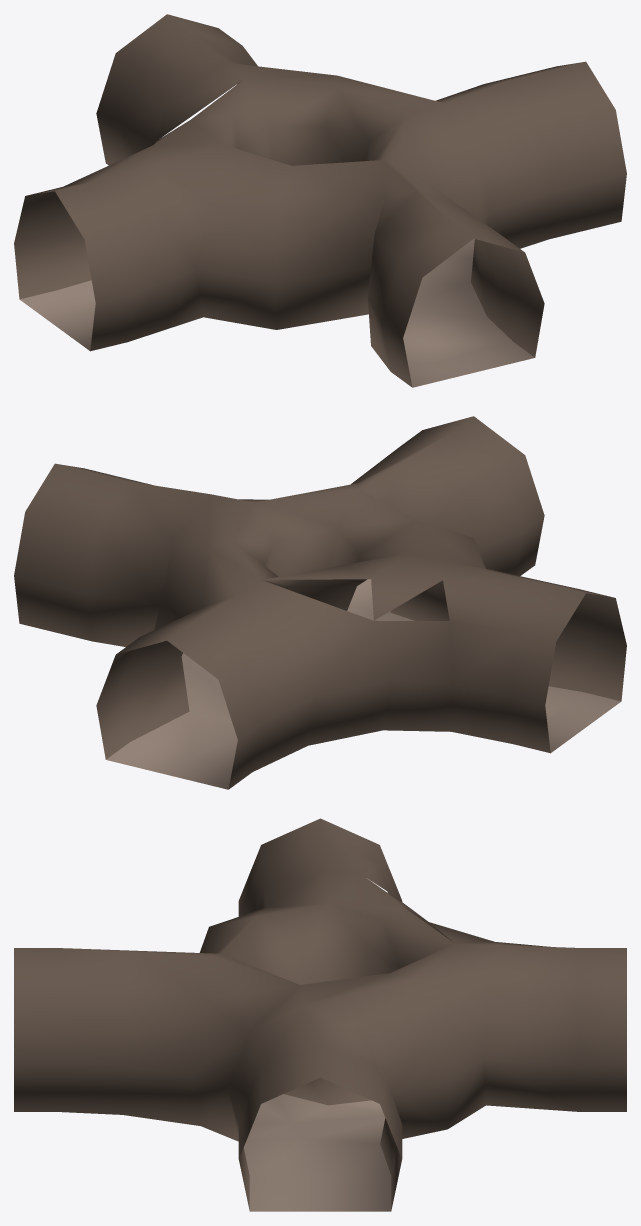
The model's file is cave_tile_1.dae.
3 views of the same model, one above another, from view 1: azimuth 30°, elevation 25°; view 2: azimuth 150°, elevation 25°; view 3: azimuth 270°, elevation 25° (orthographic).
Parts seen in each view (by area): view 1: cave_tile_1; view 2: cave_tile_1; view 3: cave_tile_1.
Part boxes in pixels (bbox=[...]): cave_tile_1: bbox=[14, 14, 626, 387]; cave_tile_1: bbox=[14, 416, 626, 789]; cave_tile_1: bbox=[14, 818, 626, 1211].
Bounding box in the file's own units: 20 × 20 × 4.83.
